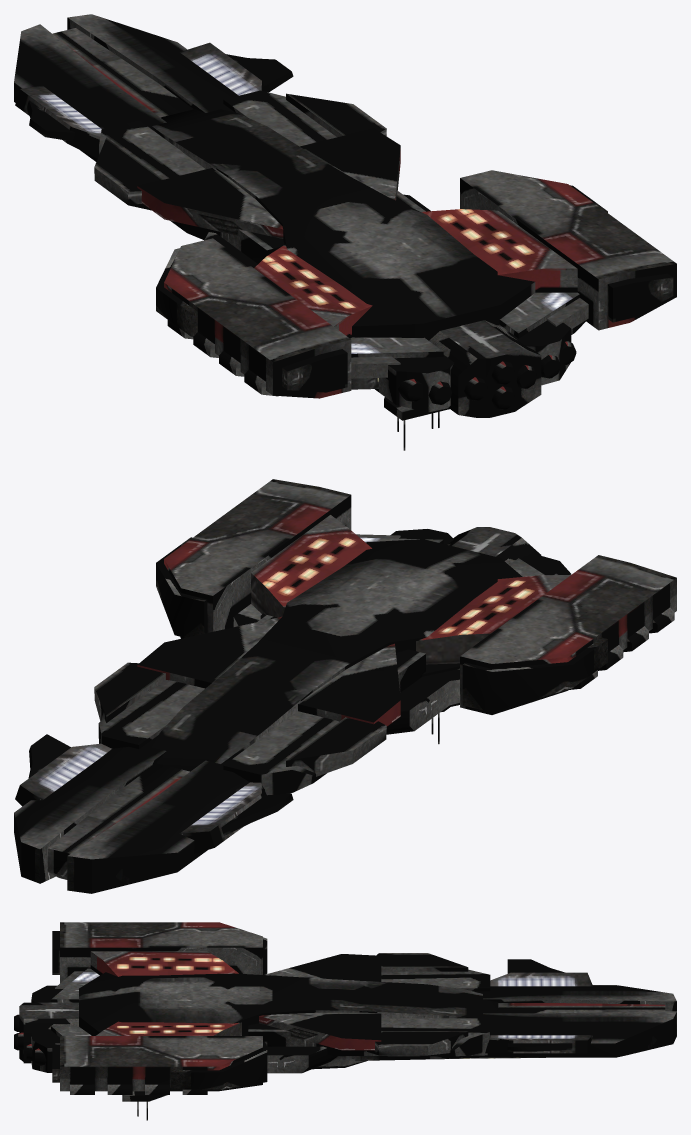
File: CruiserCarrier.fbx
The picture shows the model from 3 angles, top to bottom: view 1: azimuth 30°, elevation 25°; view 2: azimuth 150°, elevation 25°; view 3: azimuth 270°, elevation 25°; orthographic projection. The views are drawn at different scales.
Visible parts, largest first — view 1: PipelineFBX; view 2: PipelineFBX; view 3: PipelineFBX.
Boxes of the visible parts, <box> form: PipelineFBX: <box>14,14,676,450</box>; PipelineFBX: <box>14,479,676,893</box>; PipelineFBX: <box>14,922,676,1120</box>.
Size of the model in its own units: 422 by 170 by 793.
Materials: 1 (1 with a texture image).
